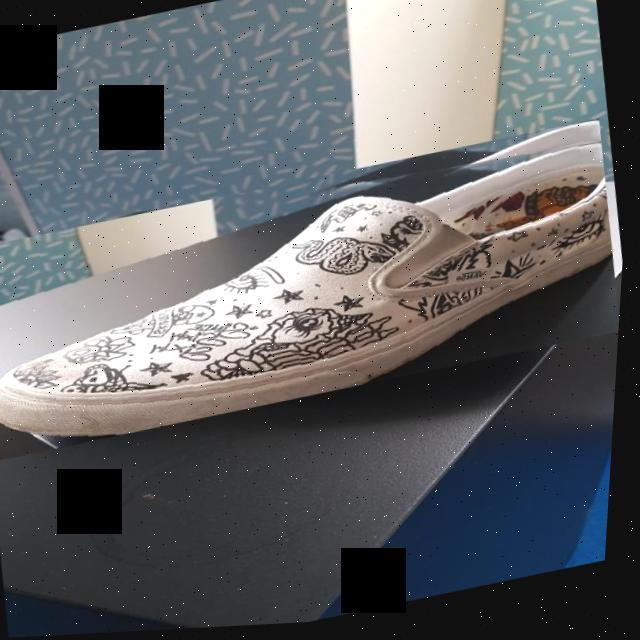shoe: (0, 124, 633, 463)
